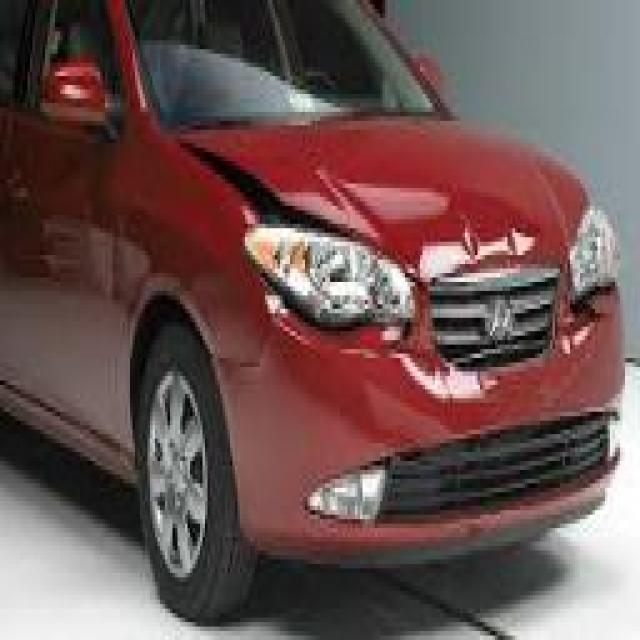Bonnet: (178, 133, 541, 284)
Light: (250, 228, 413, 334), (563, 205, 627, 325)
